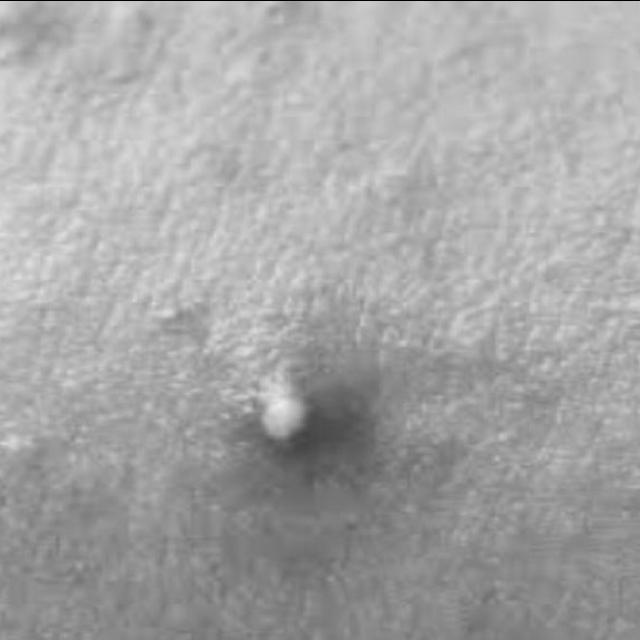pustule: (218, 357, 373, 459)
